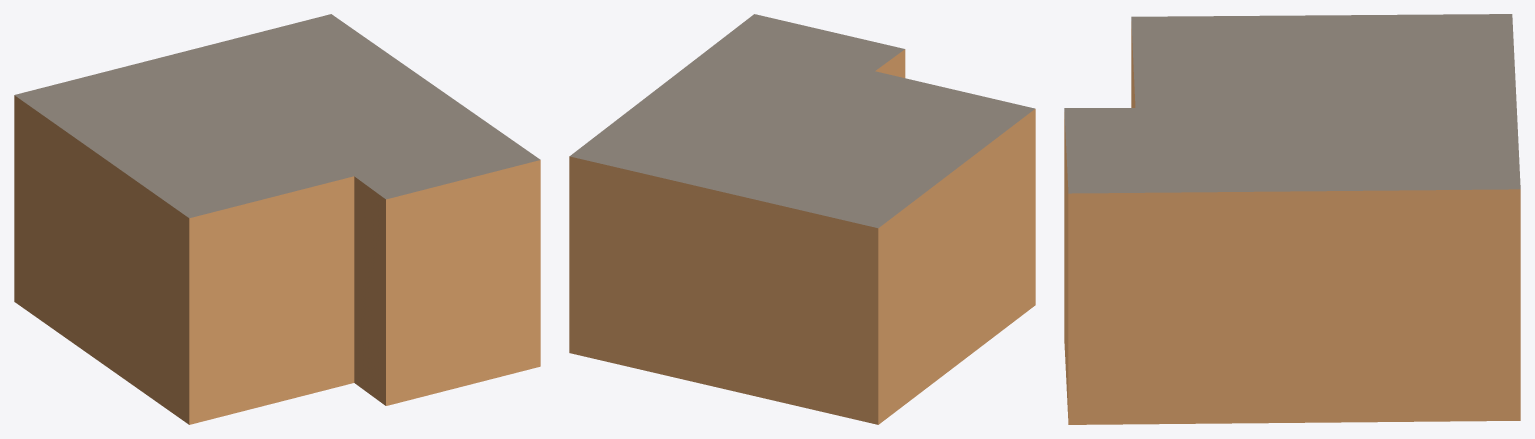
The picture shows the model from 3 angles, left to right: view 1: azimuth 30°, elevation 25°; view 2: azimuth 150°, elevation 25°; view 3: azimuth 270°, elevation 25°; orthographic projection. The views are drawn at different scales.
Parts seen in each view (by area): view 1: element.015; view 2: element.015; view 3: element.015.
Boxes of the visible parts, x1,y1,x2,y2 form: element.015: (14,14,540,424); element.015: (569,14,1035,424); element.015: (1064,14,1520,424).
Size of the model in its own units: 11.29 by 6.79 by 12.13.
